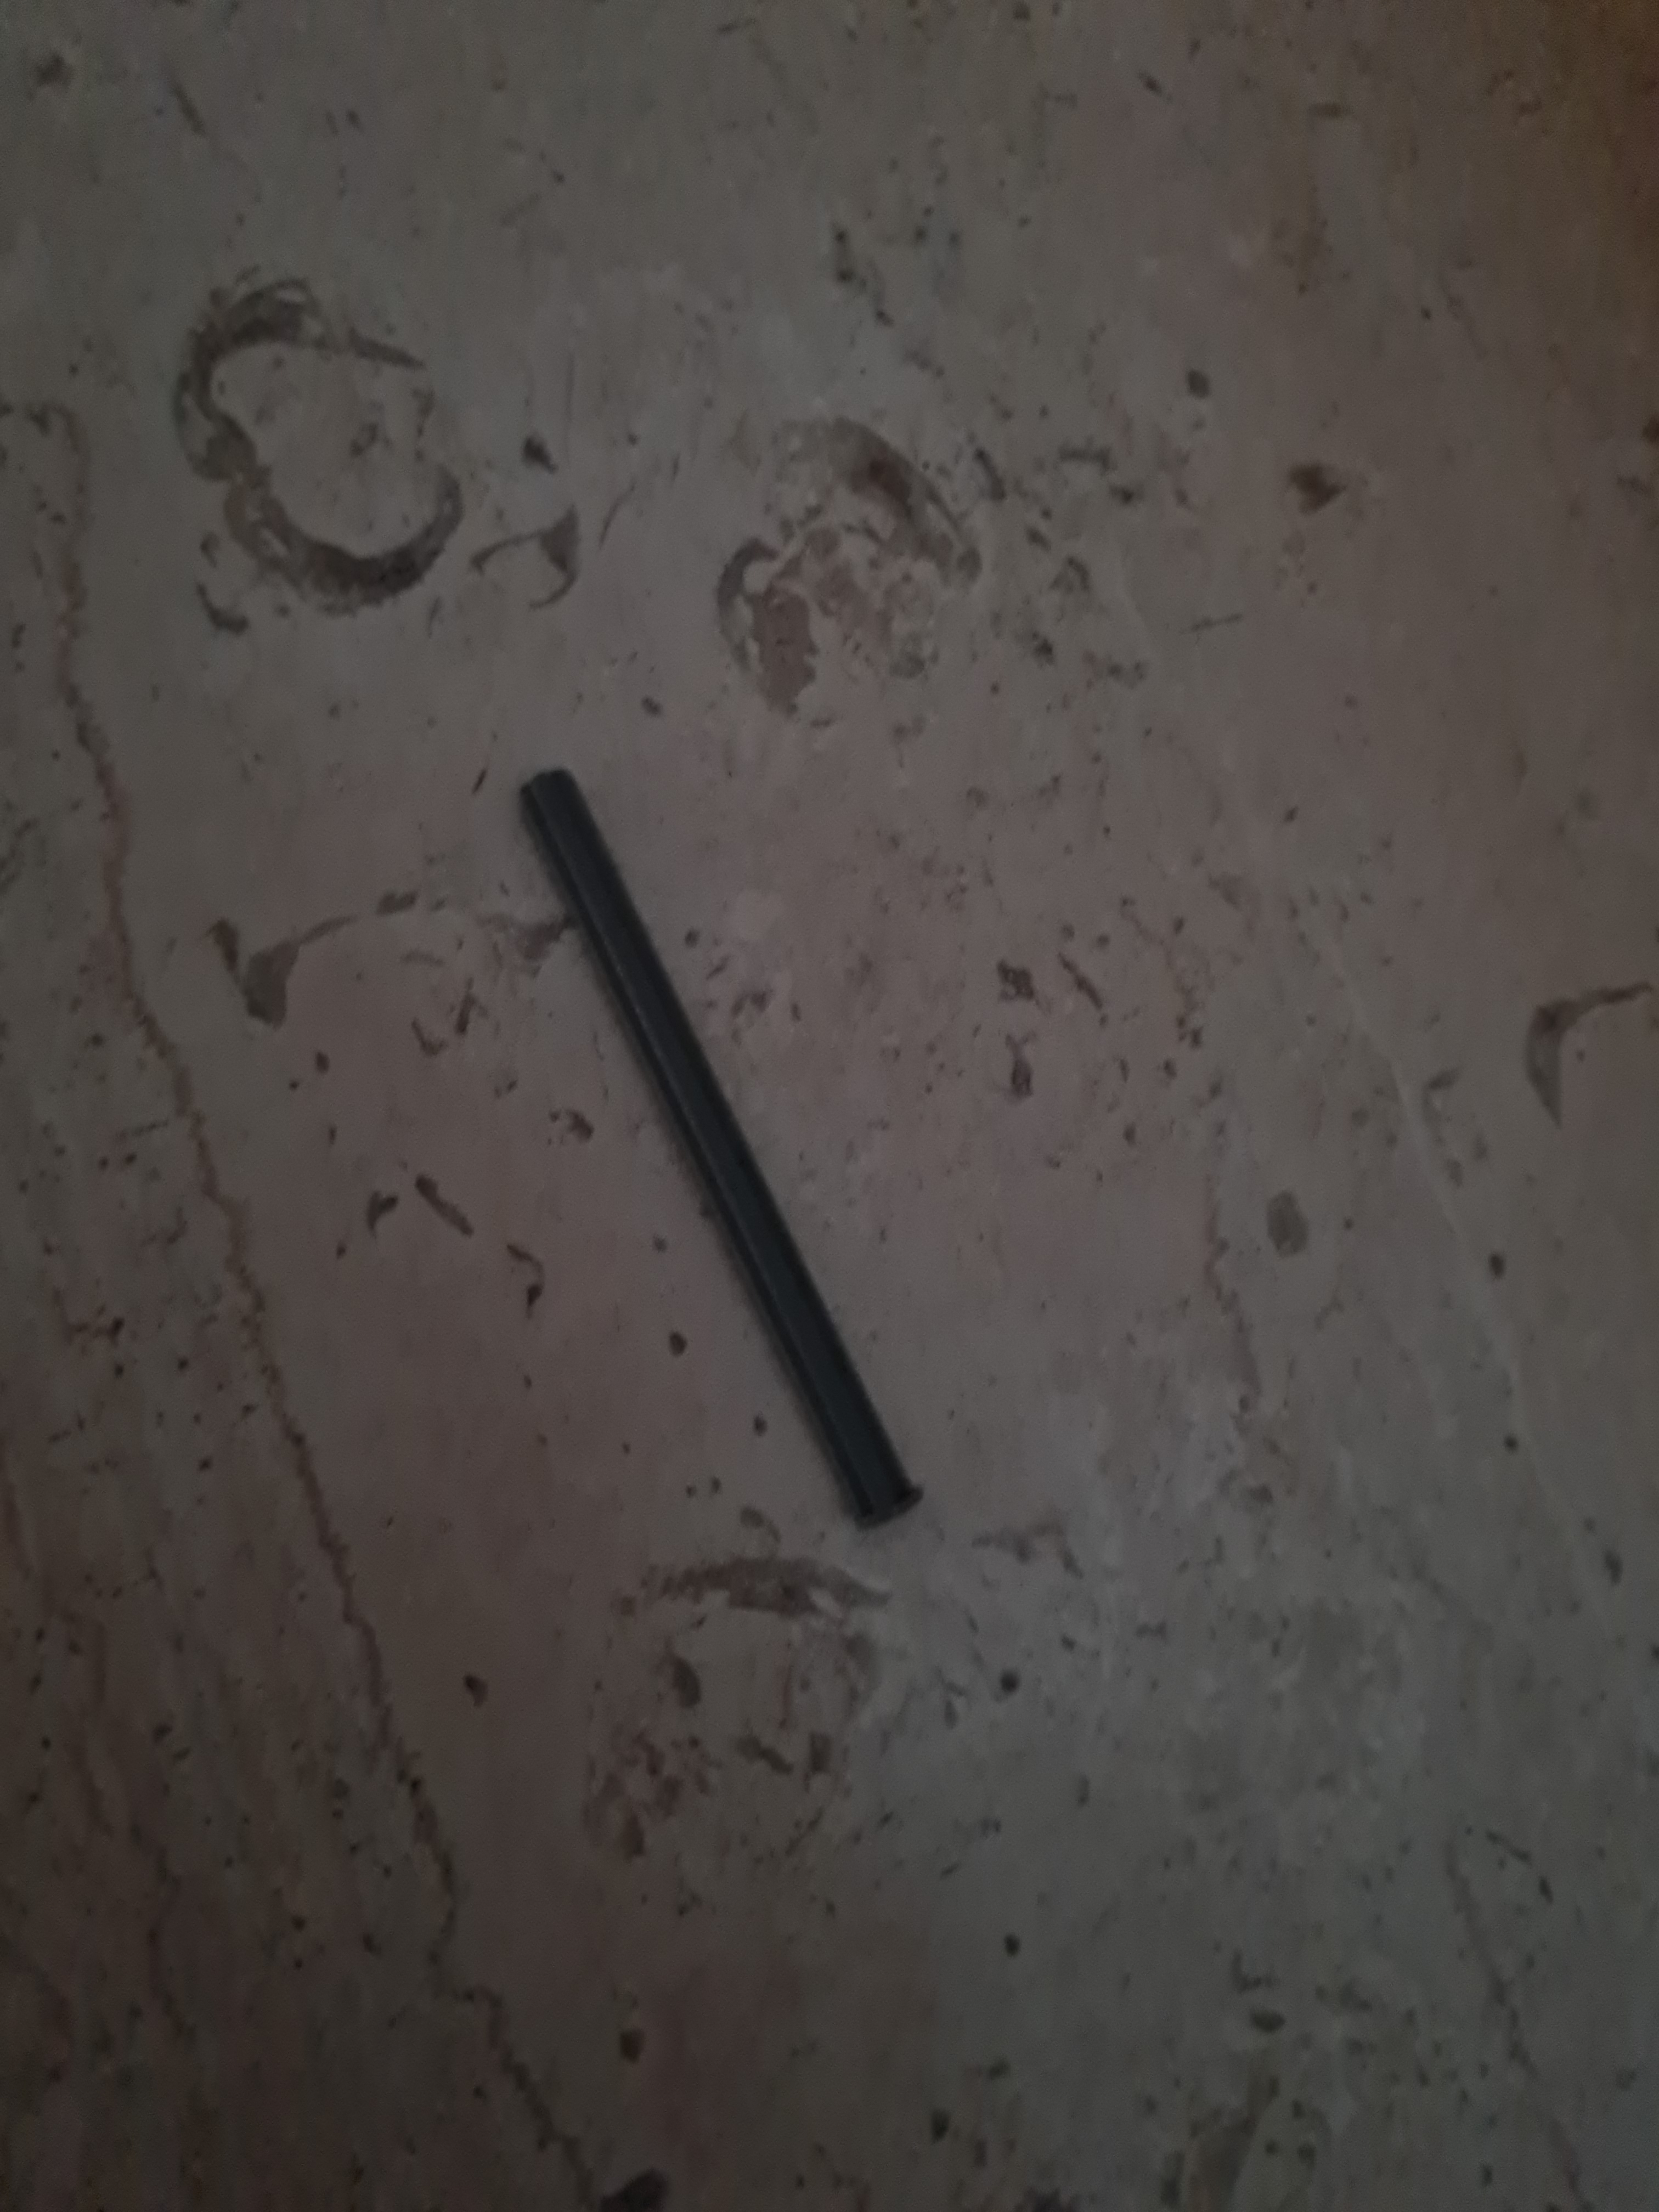Grau_lang: (512, 761, 936, 1540)
